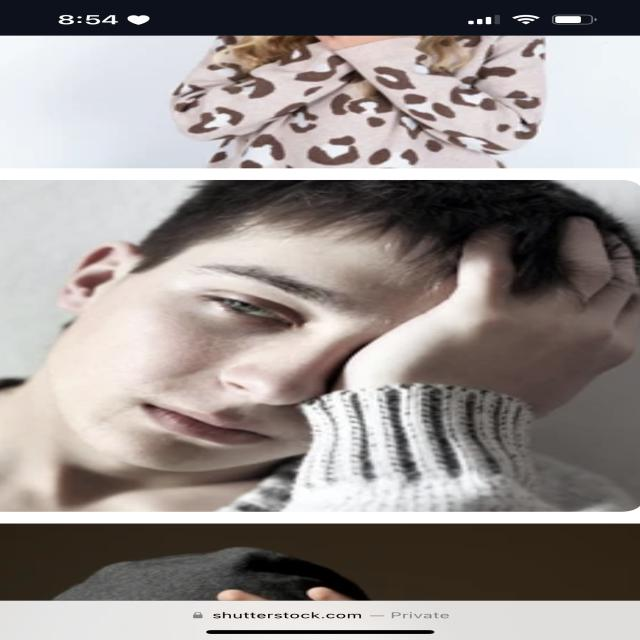sad: (108, 207, 550, 476)
